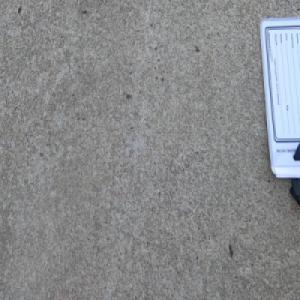LuggageTag: (258, 12, 300, 214)
